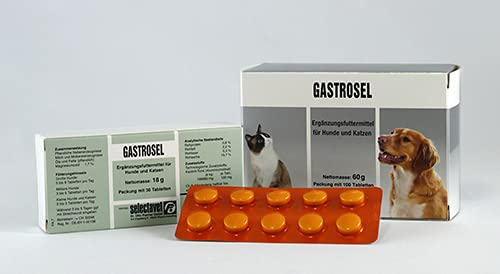GASTROSEL: (313, 82, 372, 98)
